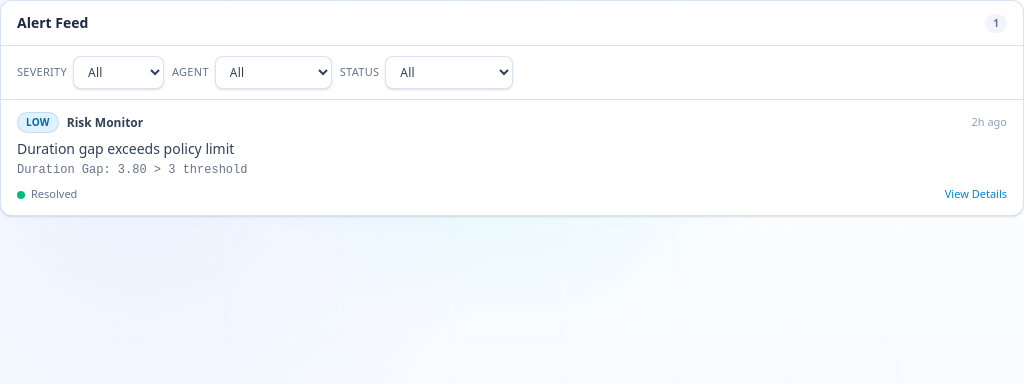
Test: AlertFeed › shows filtered empty state when no alerts match filters
Check: the element with test id "alert-feed" is shown, box [0,0,1023,216]
# Filter to CRITICAL — no match
Select "Critical" in the dropdown labelled "Severity" at (118, 72), box [73,56,164,89]
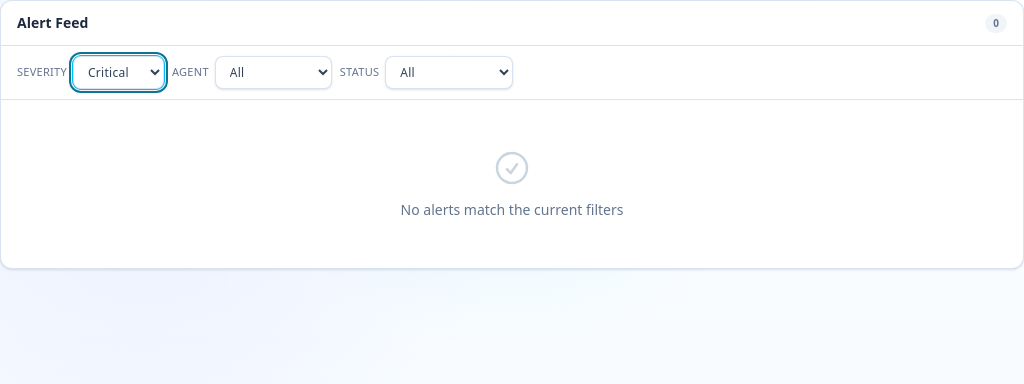
Check: the element with test id "alert-empty-state" is shown, box [400,148,623,219]
Check: the text "No alerts match the current filters" is shown, box [400,200,623,220]
